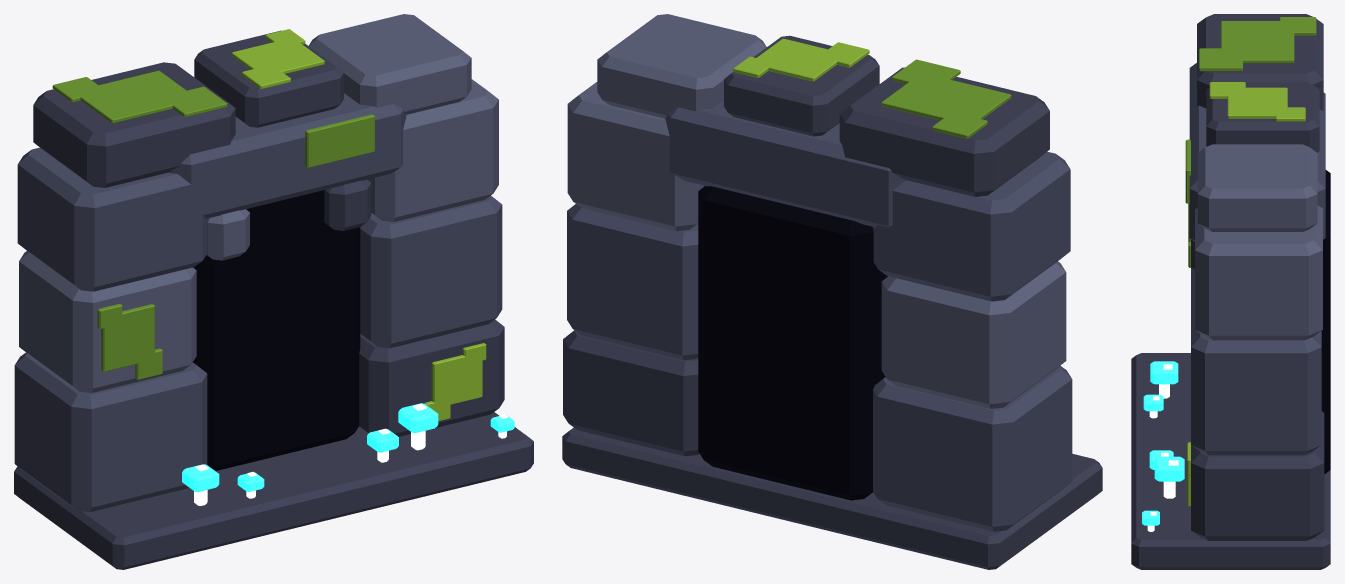
File: Bogheart_CaveGate.glb
3 views of the same model, side by side, from view 1: azimuth 30°, elevation 25°; view 2: azimuth 150°, elevation 25°; view 3: azimuth 270°, elevation 25° (orthographic). The views are drawn at different scales.
Visible parts, largest first — view 1: CaveGate_opening_void, CaveGate_threshold, CaveGate_jamb_l_1, CaveGate_jamb_l_3, CaveGate_jamb_r_2, CaveGate_jamb_l_2, CaveGate_lintel, CaveGate_top_block_l, CaveGate_jamb_r_3, CaveGate_top_block_r, CaveGate_jamb_r_1, CaveGate_top_block_c (+13 smaller); view 2: CaveGate_opening_void, CaveGate_jamb_l_1, CaveGate_threshold, CaveGate_jamb_l_2, CaveGate_jamb_l_3, CaveGate_jamb_r_2, CaveGate_lintel, CaveGate_top_block_l, CaveGate_jamb_r_1, CaveGate_jamb_r_3, CaveGate_top_block_r, CaveGate_top_block_c (+5 smaller); view 3: CaveGate_jamb_r_2, CaveGate_threshold, CaveGate_jamb_r_3, CaveGate_jamb_r_1, CaveGate_top_block_r, CaveGate_top_block_l, CaveGate_top_block_c, CaveGate_moss_top_l, CaveGate_lintel, CaveGate_opening_void, CaveGate_moss_top_c, CaveGate_moss_top_l_step_a (+7 smaller).
Boxes of the visible parts, left/top/right/bottom form: CaveGate_opening_void: left=193, top=190, right=360, bottom=470; CaveGate_threshold: left=14, top=412, right=533, bottom=569; CaveGate_jamb_l_1: left=14, top=352, right=207, bottom=512; CaveGate_jamb_l_3: left=17, top=147, right=208, bottom=291; CaveGate_jamb_r_2: left=360, top=195, right=502, bottom=348; CaveGate_jamb_l_2: left=19, top=251, right=196, bottom=392; CaveGate_lintel: left=170, top=93, right=406, bottom=218; CaveGate_top_block_l: left=33, top=62, right=235, bottom=187; CaveGate_jamb_r_3: left=367, top=79, right=498, bottom=221; CaveGate_top_block_r: left=308, top=14, right=471, bottom=114; CaveGate_jamb_r_1: left=359, top=319, right=504, bottom=436; CaveGate_top_block_c: left=194, top=30, right=343, bottom=127; CaveGate_opening_void: left=698, top=186, right=887, bottom=500; CaveGate_jamb_l_1: left=873, top=365, right=1072, bottom=531; CaveGate_threshold: left=562, top=427, right=1102, bottom=569; CaveGate_jamb_l_2: left=881, top=261, right=1066, bottom=408; CaveGate_jamb_l_3: left=872, top=151, right=1070, bottom=301; CaveGate_jamb_r_2: left=567, top=204, right=698, bottom=360; CaveGate_lintel: left=665, top=101, right=905, bottom=227; CaveGate_top_block_l: left=839, top=67, right=1049, bottom=196; CaveGate_jamb_r_1: left=563, top=330, right=699, bottom=456; CaveGate_jamb_r_3: left=567, top=82, right=704, bottom=231; CaveGate_top_block_r: left=597, top=14, right=766, bottom=118; CaveGate_top_block_c: left=724, top=35, right=879, bottom=136; CaveGate_jamb_r_2: left=1191, top=297, right=1321, bottom=455; CaveGate_threshold: left=1131, top=353, right=1330, bottom=569; CaveGate_jamb_r_3: left=1195, top=206, right=1322, bottom=340; CaveGate_jamb_r_1: left=1191, top=411, right=1324, bottom=540; CaveGate_top_block_r: left=1197, top=144, right=1317, bottom=231; CaveGate_top_block_l: left=1197, top=14, right=1323, bottom=110; CaveGate_top_block_c: left=1206, top=82, right=1319, bottom=152; CaveGate_moss_top_l: left=1221, top=21, right=1294, bottom=63; CaveGate_lintel: left=1189, top=88, right=1325, bottom=241; CaveGate_opening_void: left=1321, top=170, right=1330, bottom=474; CaveGate_moss_top_c: left=1227, top=87, right=1287, bottom=118; CaveGate_moss_top_l_step_a: left=1199, top=48, right=1242, bottom=71.
Size of the model in its own units: 3.5 by 3.18 by 1.5.
